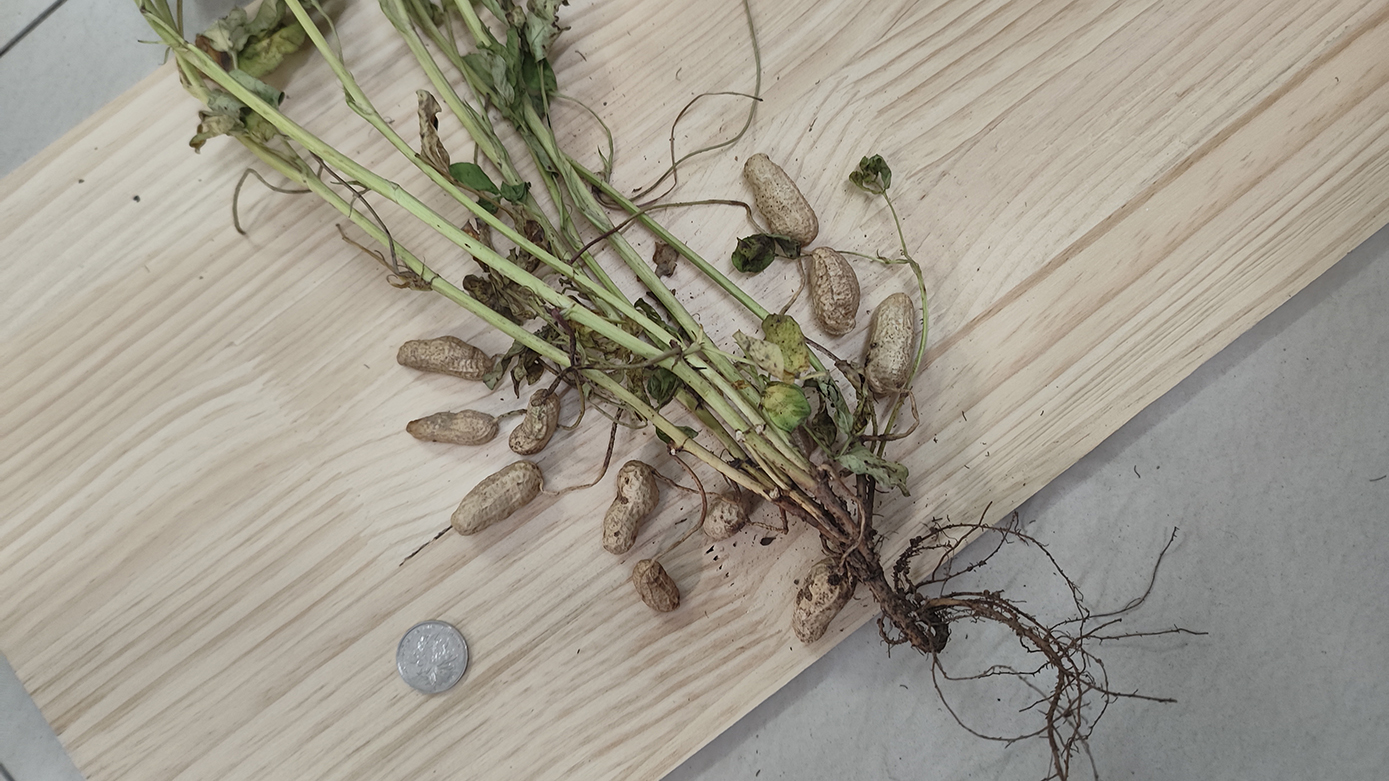h: (451, 460, 544, 536), (744, 152, 820, 243), (601, 458, 661, 554), (792, 558, 859, 643), (865, 291, 916, 392), (807, 245, 860, 337), (397, 336, 494, 379), (405, 408, 500, 446), (508, 388, 561, 454), (632, 558, 682, 611), (702, 493, 752, 540)
